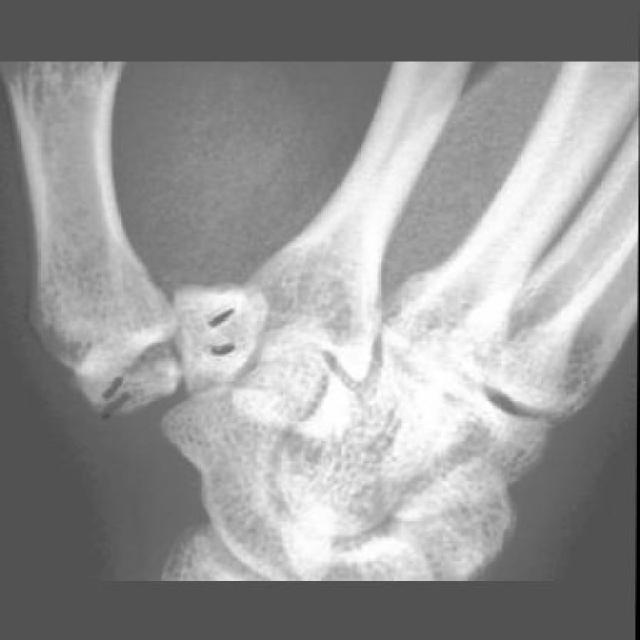Fracture: (99, 288, 240, 421)
